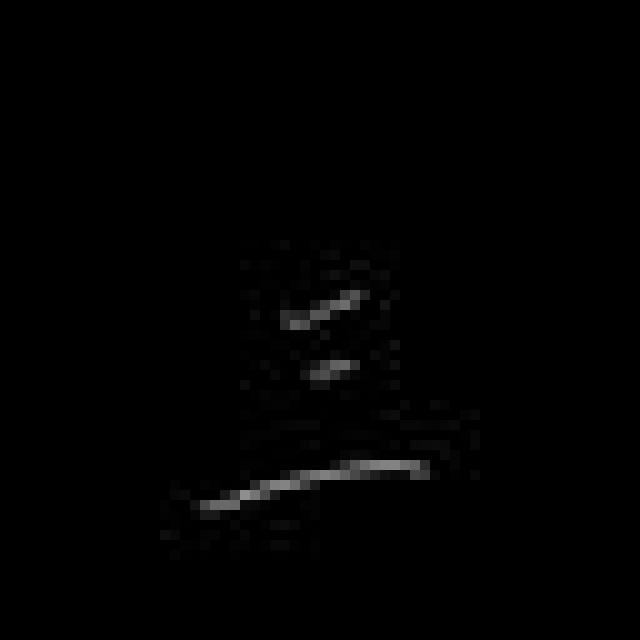3 -three-: (192, 282, 441, 536)
